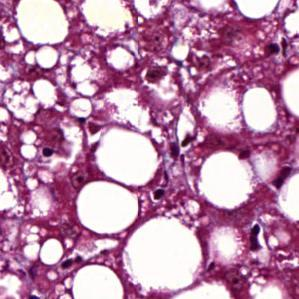steatosis: (75, 178, 144, 239), (241, 86, 280, 132)
